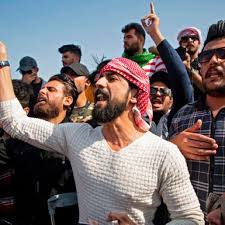middle_eastern_male: (92, 63, 142, 121)
